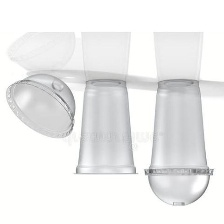glass: (141, 73, 220, 215), (63, 78, 148, 181)
